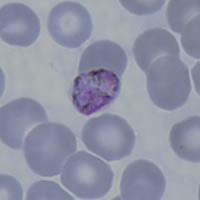Infected: (71, 69, 119, 117)
Uninfected: (60, 149, 115, 200), (22, 123, 78, 173), (82, 112, 135, 161), (0, 97, 48, 150), (147, 55, 191, 111), (131, 30, 181, 78), (45, 0, 92, 49), (119, 159, 167, 200), (79, 41, 126, 82), (0, 5, 40, 51)
